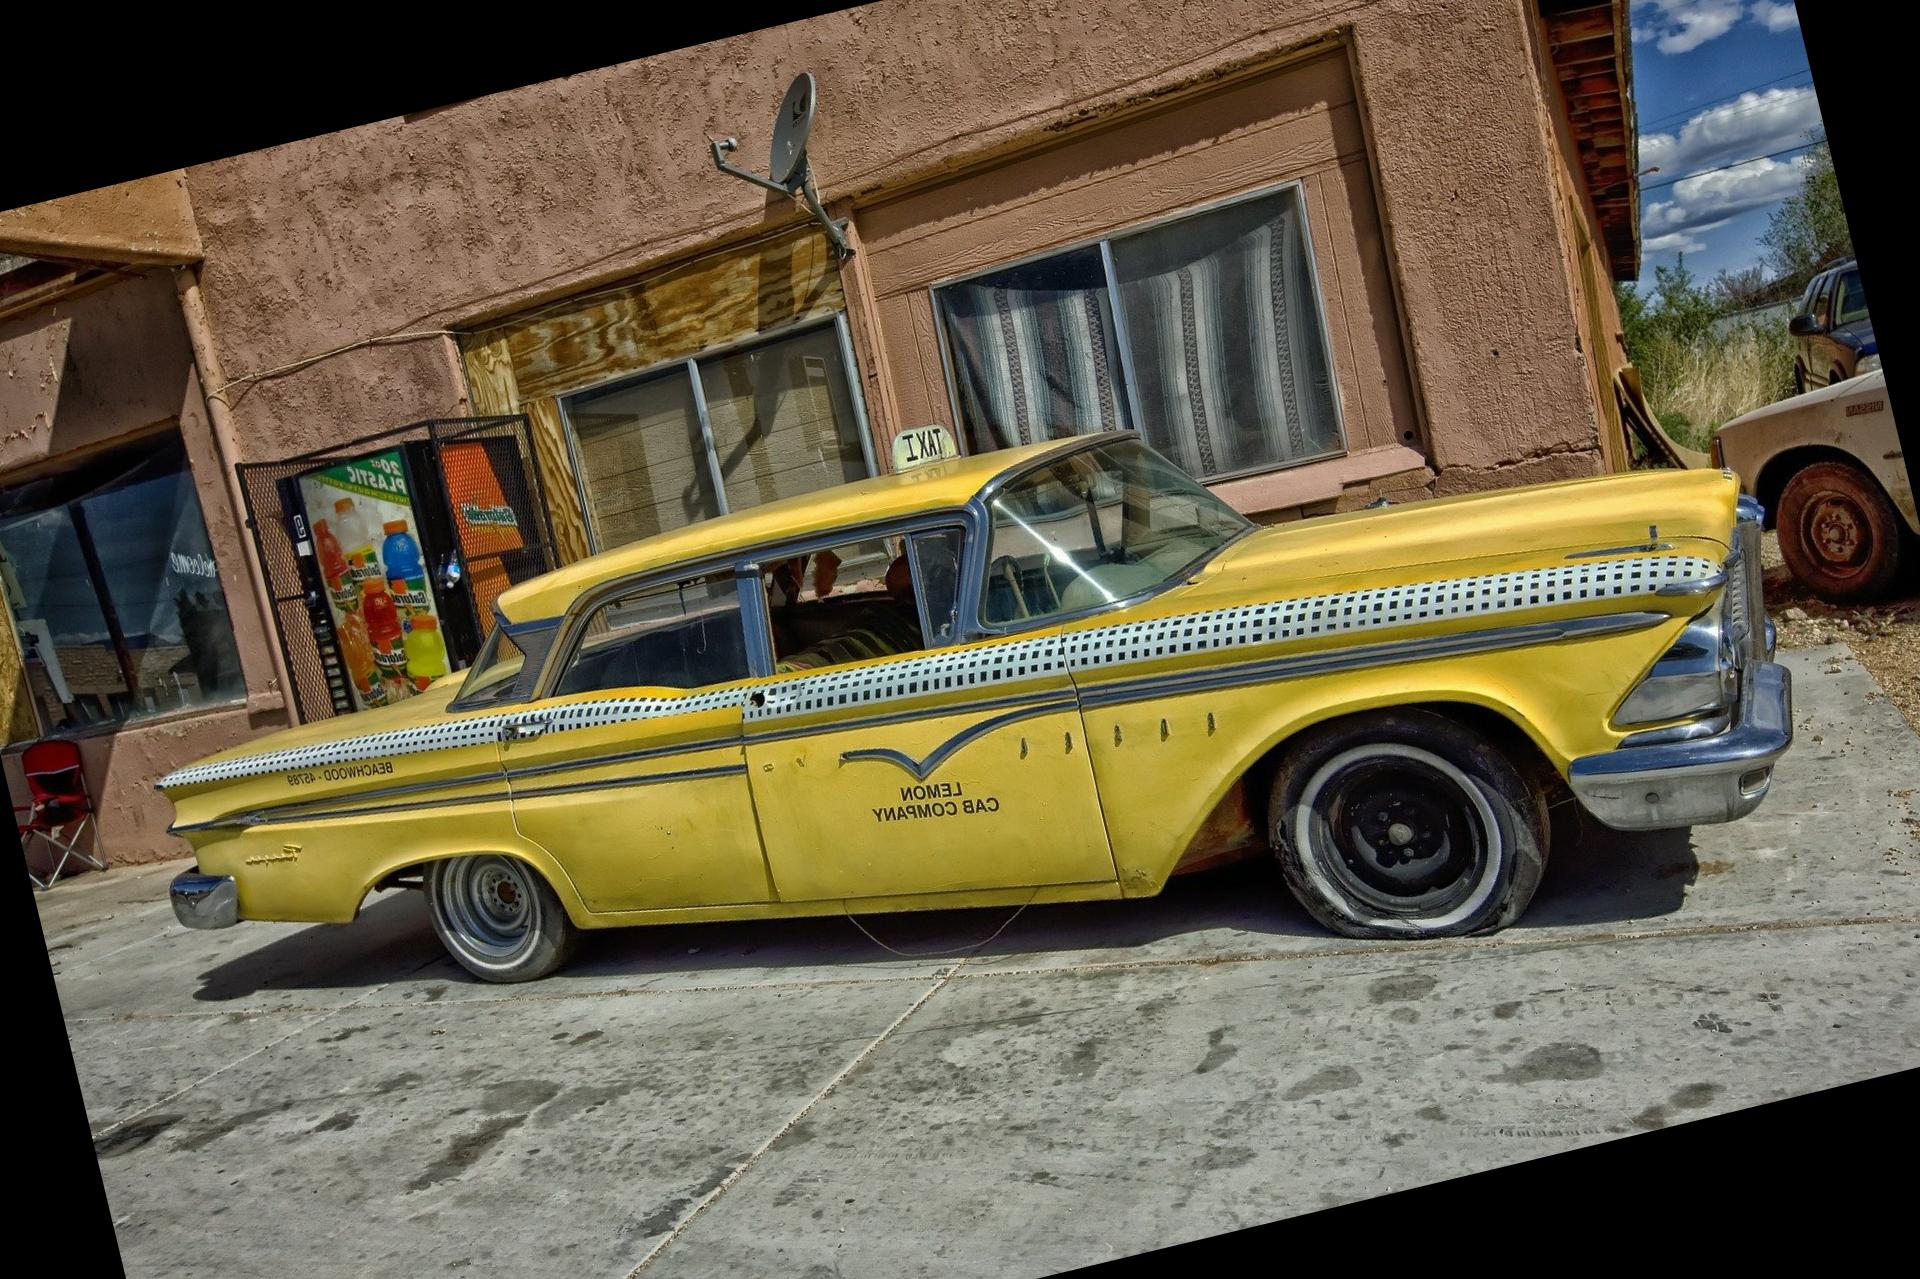taxi: (120, 414, 1839, 909)
